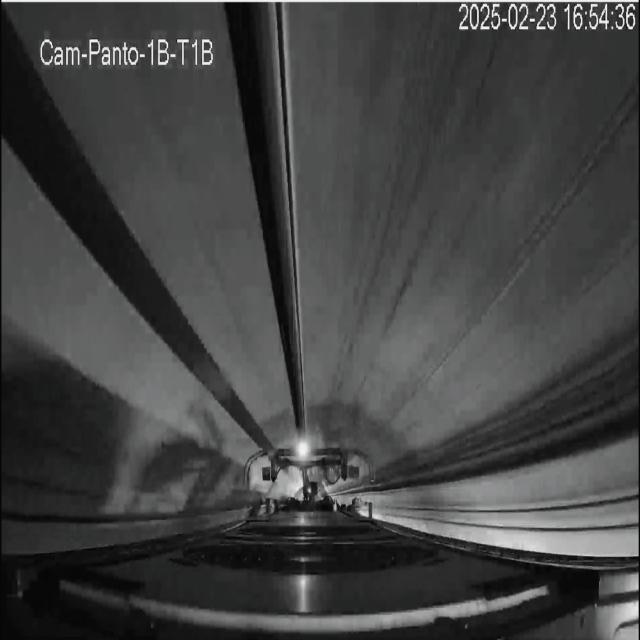Camera Stamp: (35, 26, 221, 71)
Date Stamp: (458, 3, 636, 33)
No - Spark: (246, 442, 373, 515)
Sparks: (293, 433, 316, 465)
